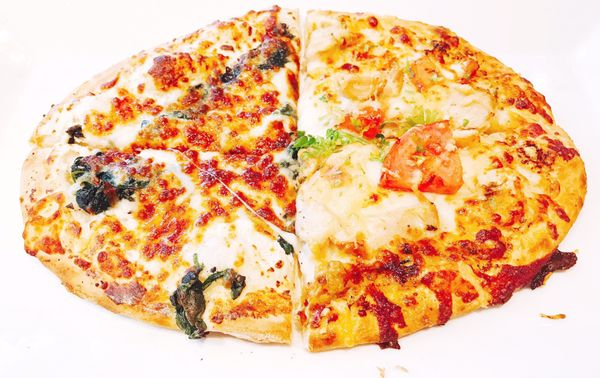sandwich: (16, 6, 588, 352), (19, 11, 304, 346)
